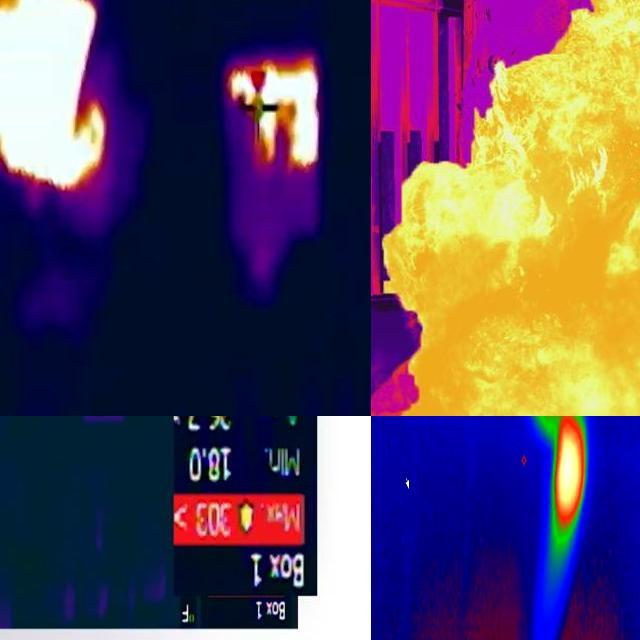fire: (377, 1, 640, 415), (1, 1, 102, 202), (229, 48, 319, 185), (549, 417, 587, 553)
